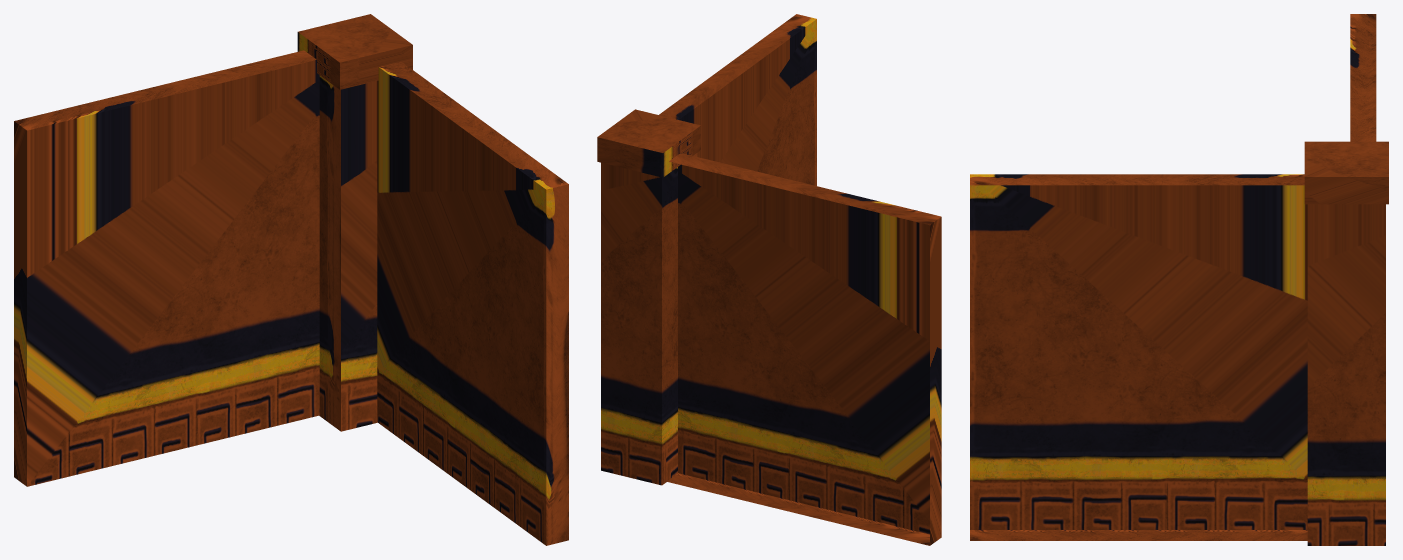
File: Corner-IN.fbx
3 renders of one model, left to right at view 1: azimuth 30°, elevation 25°; view 2: azimuth 150°, elevation 25°; view 3: azimuth 270°, elevation 25°, orthographic. The views are drawn at different scales.
Visible parts, largest first — view 1: CornerUp Low.003; view 2: CornerUp Low.003; view 3: CornerUp Low.003.
Part boxes in pixels (x1,y1,x2,y2): CornerUp Low.003: [14, 14, 568, 545]; CornerUp Low.003: [597, 14, 941, 545]; CornerUp Low.003: [970, 14, 1388, 545].
Bounding box in the file's own units: 238 × 233 × 238.
